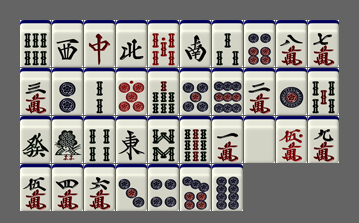0m: (276, 116, 307, 163)
0p: (116, 68, 147, 115)
0s: (148, 20, 179, 67)
1m: (212, 116, 243, 163)
1p: (276, 68, 307, 115)
1s: (52, 116, 83, 163)
1z: (116, 116, 147, 163)
2m: (244, 68, 275, 115)
2p: (52, 68, 83, 115)
2s: (84, 68, 115, 115)
2z: (180, 20, 211, 67)
3m: (20, 68, 51, 115)
3p: (116, 164, 147, 211)
3s: (212, 20, 243, 67)
3z: (52, 20, 83, 67)
4m: (52, 164, 83, 211)
4p: (148, 164, 179, 211)
4s: (84, 116, 115, 163)
4z: (116, 20, 147, 67)
5m: (20, 164, 51, 211)
5p: (180, 68, 211, 115)
5s: (308, 68, 339, 115)
5z: (244, 116, 275, 163)
6m: (84, 164, 115, 211)
6p: (244, 20, 275, 67)
6s: (20, 20, 51, 67)
6z: (20, 116, 51, 163)
7m: (308, 20, 339, 67)
7p: (180, 164, 211, 211)
7s: (148, 68, 179, 115)
7z: (84, 20, 115, 67)
8m: (276, 20, 307, 67)
8p: (212, 164, 243, 211)
8s: (148, 116, 179, 163)
9m: (308, 116, 339, 163)
9p: (212, 68, 243, 115)
9s: (180, 116, 211, 163)
